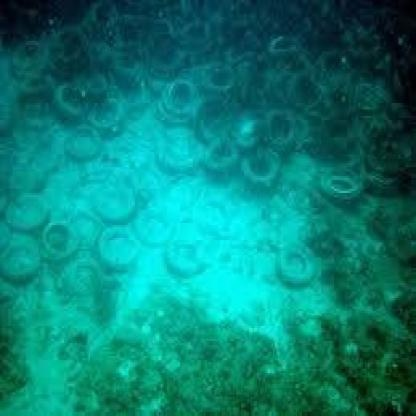tire: (264, 103, 308, 161), (38, 219, 94, 264), (313, 172, 379, 210), (54, 75, 100, 127), (156, 82, 209, 120), (204, 138, 246, 183), (250, 146, 288, 184)
